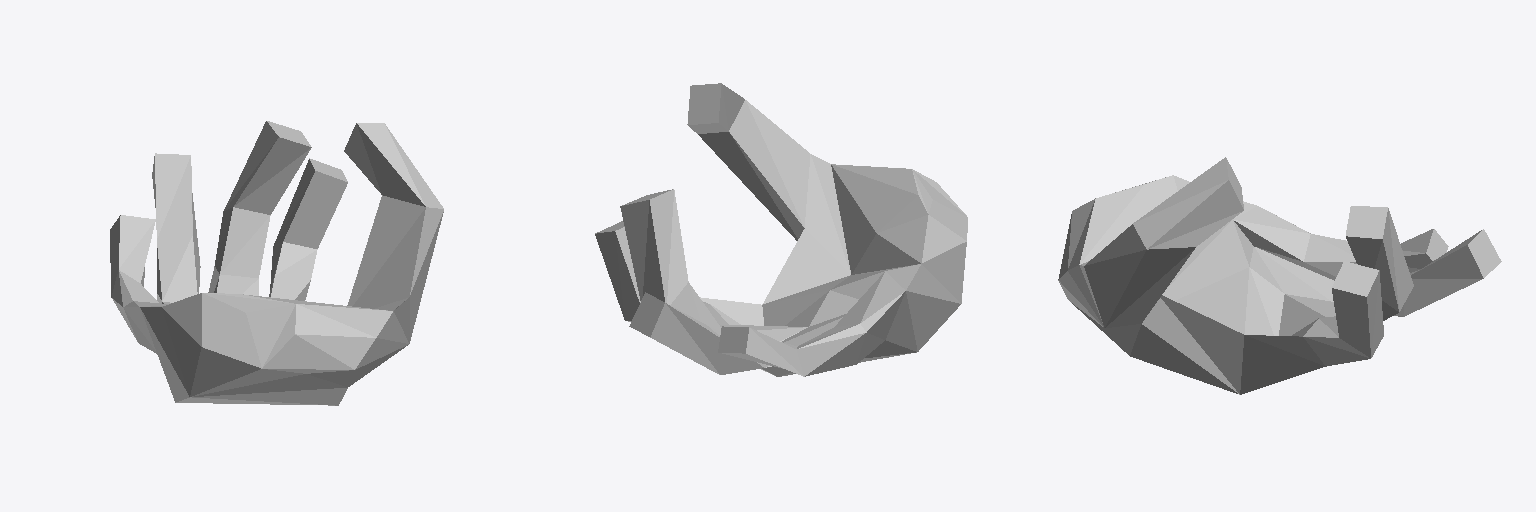
Rendered from OcarinaHand5.obj.
3 views of the same model, side by side, from view 1: azimuth 30°, elevation 25°; view 2: azimuth 150°, elevation 25°; view 3: azimuth 270°, elevation 25° (orthographic).
Visible parts, largest first — view 1: Converted object 0; view 2: Converted object 0; view 3: Converted object 0.
Boxes of the visible parts, <box> form: Converted object 0: <box>110,121,443,405</box>; Converted object 0: <box>595,83,967,376</box>; Converted object 0: <box>1058,157,1501,394</box>.
Bounding box in the file's own units: 4.17 × 4.14 × 6.16.